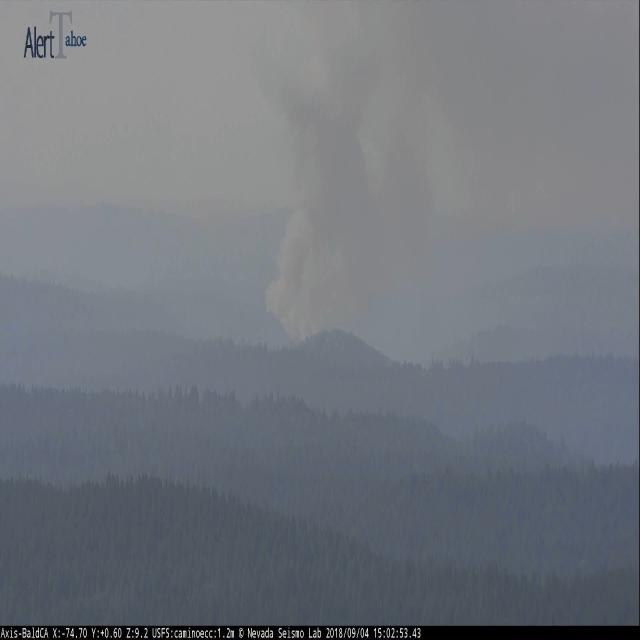smoke: (264, 90, 433, 339)
